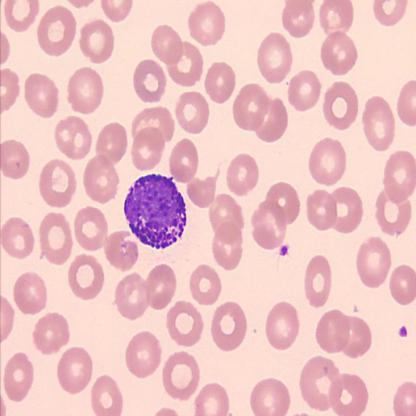Basophil: (120, 169, 190, 253)
